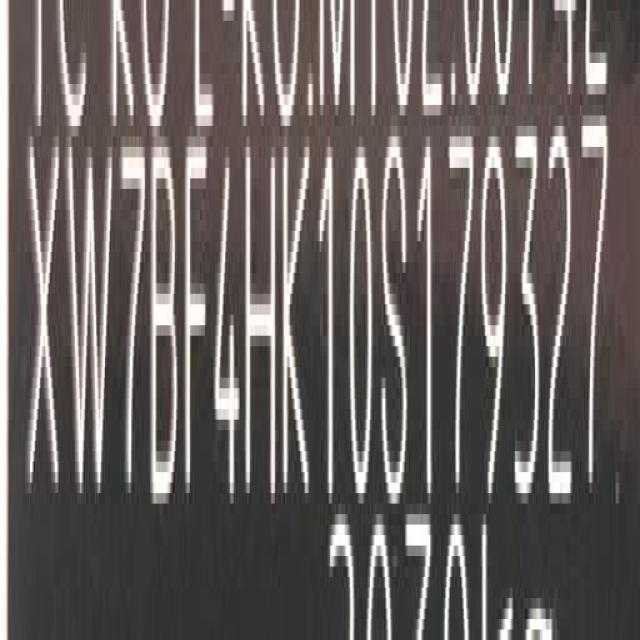0: (347, 128, 375, 498)
1: (317, 132, 339, 525), (420, 126, 438, 508)
2: (546, 114, 576, 520)
3: (516, 118, 544, 516)
4: (213, 159, 244, 517)
7: (580, 105, 614, 497), (446, 123, 476, 516), (119, 140, 147, 509)
9: (478, 124, 509, 513)
B: (149, 147, 180, 517)
F: (184, 146, 212, 517)
H: (247, 134, 280, 514)
K: (281, 140, 315, 532)
S: (380, 136, 411, 520)
W: (67, 143, 117, 513)
X: (26, 149, 66, 515)
